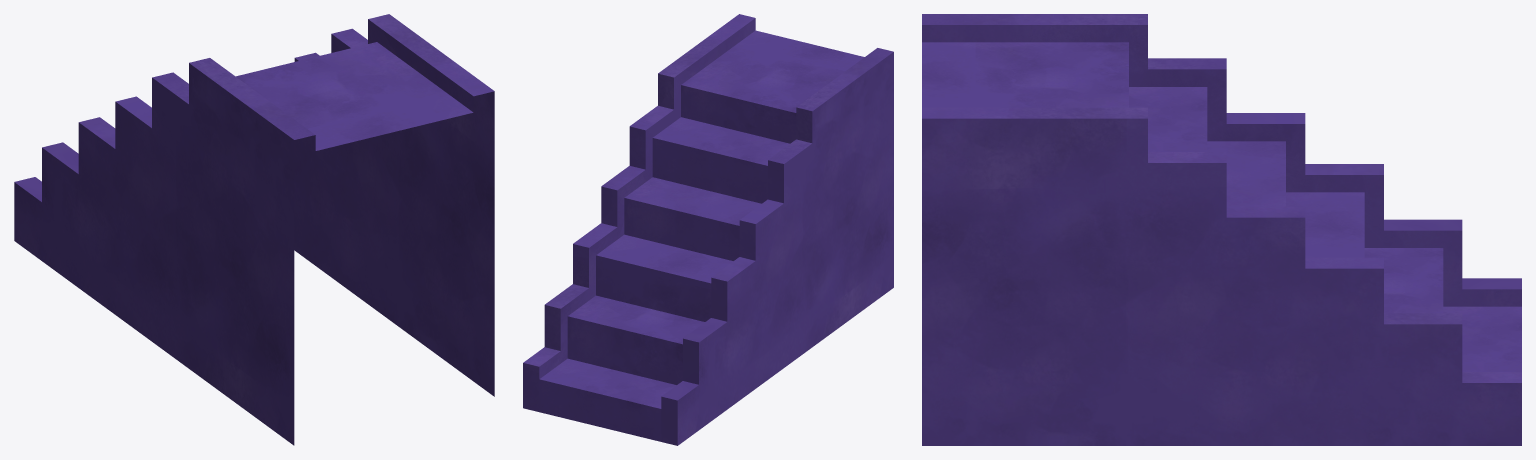
File: escalier.fbx
The picture shows the model from 3 angles, left to right: view 1: azimuth 30°, elevation 25°; view 2: azimuth 150°, elevation 25°; view 3: azimuth 270°, elevation 25°; orthographic projection. The views are drawn at different scales.
Visible parts, largest first — view 1: pCube6; view 2: pCube6; view 3: pCube6.
Boxes of the visible parts, bbox=[...] form: pCube6: bbox=[14, 14, 494, 445]; pCube6: bbox=[523, 14, 893, 445]; pCube6: bbox=[922, 14, 1521, 445].
Bounding box in the file's own units: 3.47 × 5.06 × 8.4.
